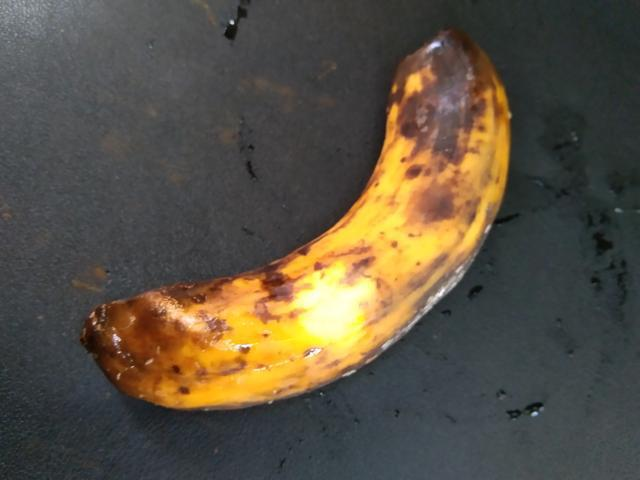rotten: (61, 15, 542, 444)
